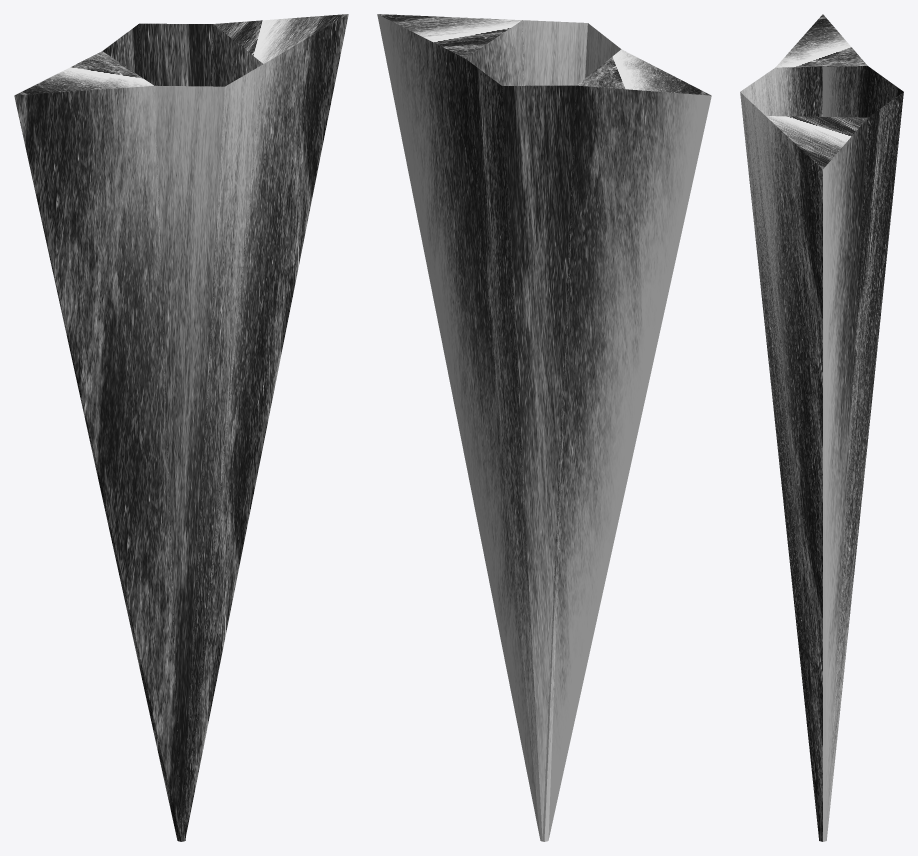
File: lancet 3rd hurdle-1.FBX
The picture shows the model from 3 angles, left to right: view 1: azimuth 30°, elevation 25°; view 2: azimuth 150°, elevation 25°; view 3: azimuth 270°, elevation 25°; orthographic projection. The views are drawn at different scales.
Visible parts, largest first — view 1: Object001; view 2: Object001; view 3: Object001.
Part boxes in pixels (x1,y1,x2,y2): Object001: [14, 14, 348, 841]; Object001: [377, 14, 711, 841]; Object001: [740, 14, 903, 841].
Bounding box in the file's own units: 9.1 × 20.4 × 4.05.
Materials: 2 (2 with a texture image).
